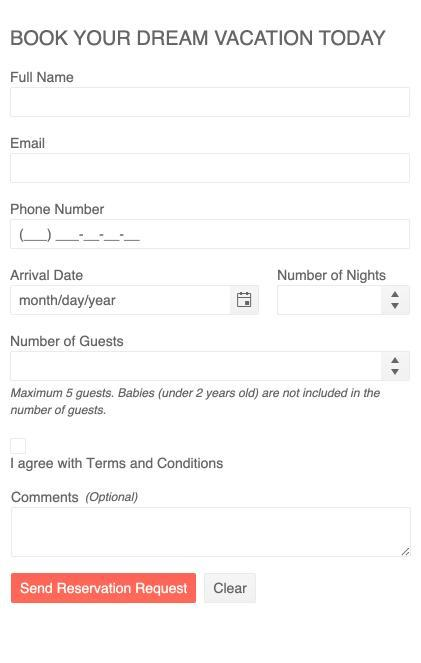button: (15, 574, 198, 606), (204, 573, 259, 603)
checkbox: (9, 437, 31, 456)
icon: (236, 292, 255, 309), (388, 291, 403, 301), (389, 356, 404, 366), (390, 366, 402, 378), (390, 301, 403, 311)
input: (9, 219, 412, 251), (12, 153, 412, 183), (10, 353, 384, 383), (12, 89, 411, 116), (9, 287, 233, 318), (278, 286, 383, 317)
label: (10, 26, 388, 49), (8, 458, 228, 472), (8, 330, 129, 351), (9, 491, 141, 506), (8, 200, 109, 218), (277, 269, 389, 284), (8, 269, 88, 284), (9, 70, 77, 87), (8, 136, 52, 154)
